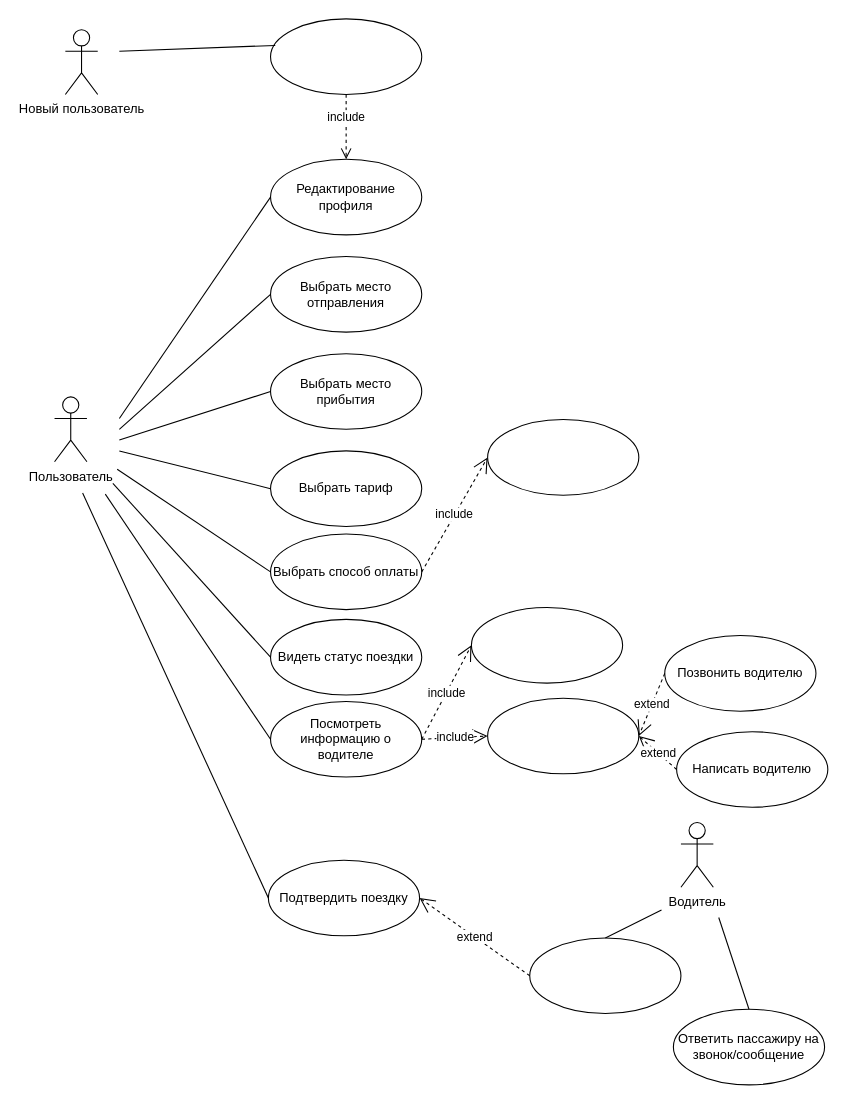
Image size: 847x1104. Some labels were removed from this diagram. Each missing label, with the centre of its shape:
Ввести данные карты: [563,456]
Подтвердить заказ: [605,975]
Получить номер водителя: [563,735]
Посмотреть отзывы о водителе: [546,644]
Регистрация в приложении: [345,56]
